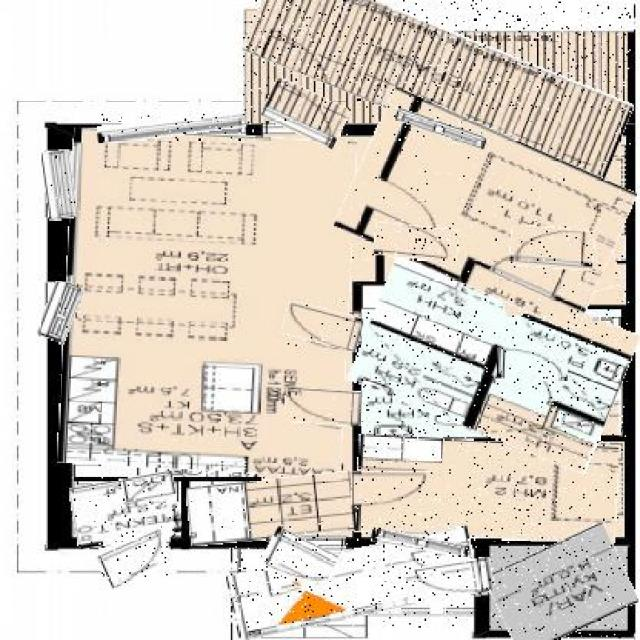door: (262, 86, 348, 142), (262, 532, 336, 590), (99, 530, 172, 584), (511, 226, 594, 269), (283, 304, 363, 348), (406, 560, 492, 600), (286, 389, 366, 426), (376, 225, 458, 260), (351, 471, 431, 506), (497, 349, 568, 380)
window: (97, 114, 245, 140), (394, 115, 488, 143), (40, 283, 78, 345), (43, 151, 75, 218), (371, 534, 469, 552), (376, 534, 464, 552)
zone: (61, 132, 354, 474), (243, 0, 632, 158), (343, 111, 628, 309), (357, 261, 631, 454), (356, 437, 618, 540), (230, 537, 478, 628), (489, 532, 631, 640), (188, 475, 357, 543), (71, 476, 180, 546), (363, 374, 489, 434), (498, 256, 622, 310)
